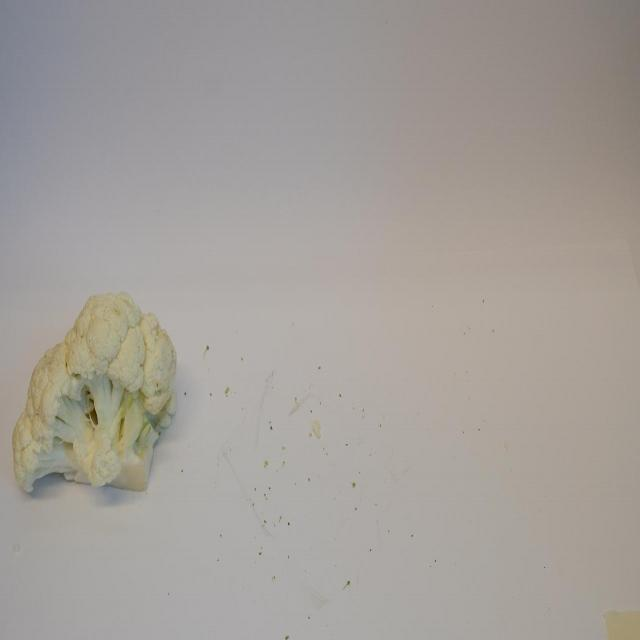cauliflower: (11, 290, 180, 494)
